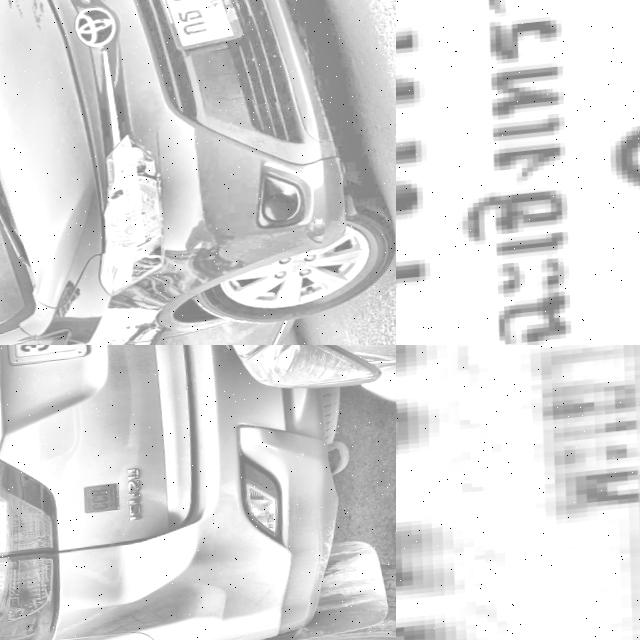license-plate: (396, 0, 640, 345), (396, 345, 640, 640), (141, 0, 255, 51)
